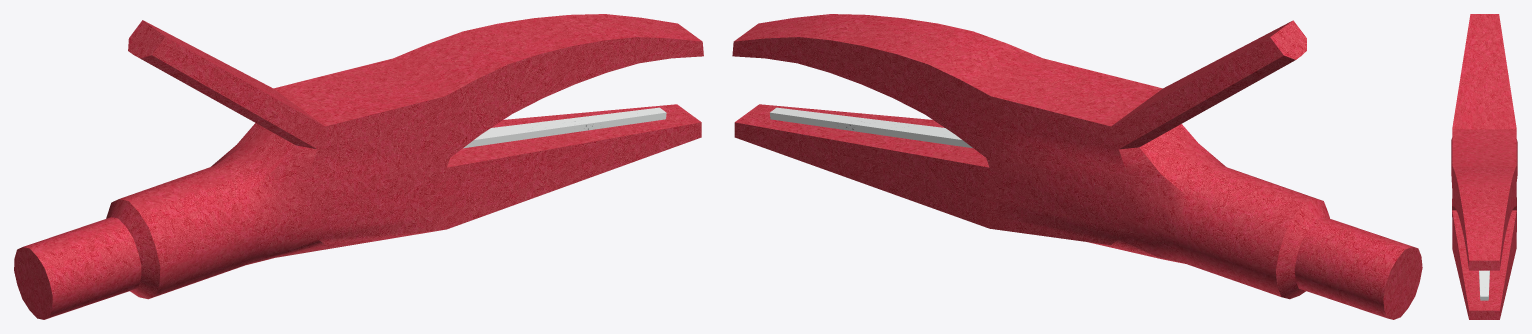
Rendered from RedClip.fbx.
3 views of the same model, side by side, from view 1: azimuth 30°, elevation 25°; view 2: azimuth 150°, elevation 25°; view 3: azimuth 270°, elevation 25° (orthographic). The views are drawn at different scales.
Parts seen in each view (by area): view 1: red; view 2: red; view 3: red.
Boxes of the visible parts, x1,y1,x2,y2 form: red: (14, 14, 703, 319); red: (732, 14, 1422, 319); red: (1451, 14, 1517, 319).
Size of the model in its own units: 1023 by 390 by 143.
Materials: 2 (2 with a texture image).
